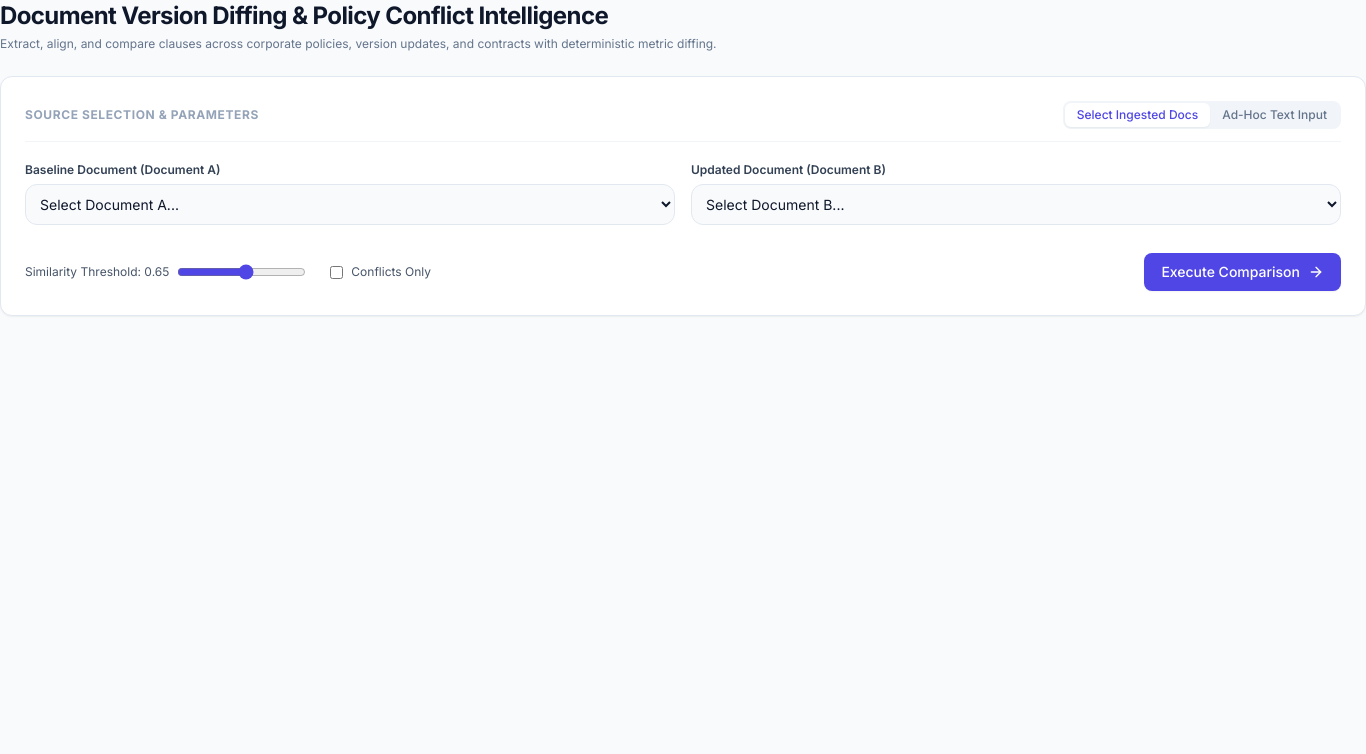
Test case: ComparisonPage component › executes document comparison and displays executive summary, diff statistics, and aligned clauses
Note: Switch to ad-hoc text mode for quick testing
Click the button "Ad-Hoc Text Input" at (1275, 115), box [1210,103,1339,127]
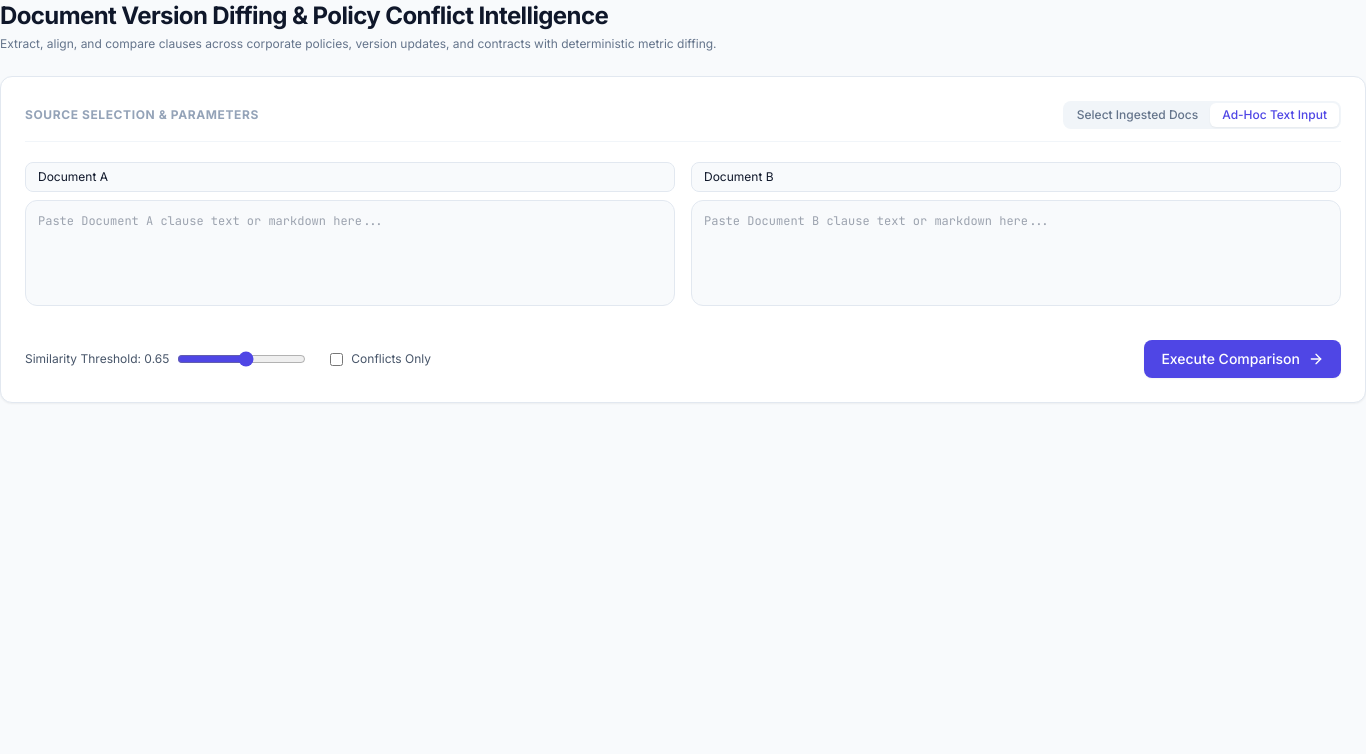
Type "Confidentiality obligations survive for 2 years." into the text box with placeholder "Paste Document A clause text or markdown here..." at (350, 253), box [25,200,675,306]
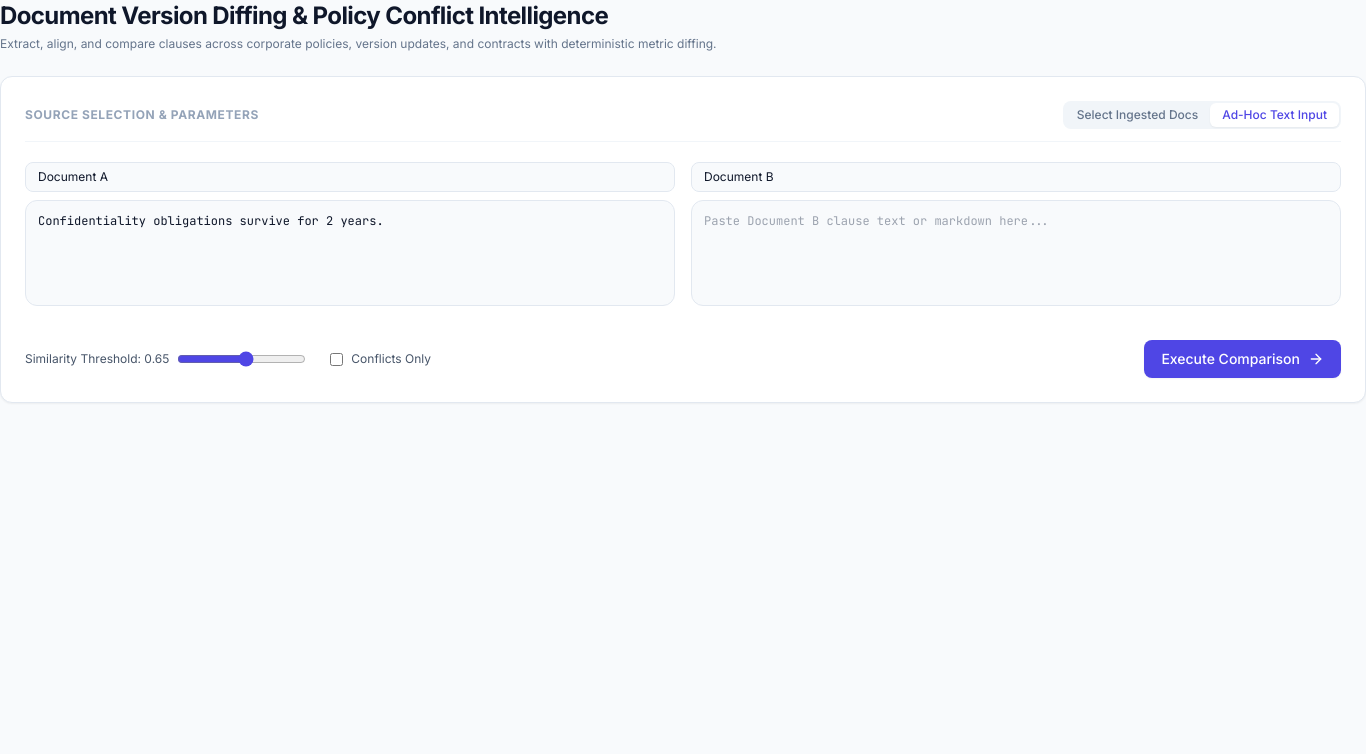
Type "Confidentiality obligations survive for 5 years." into the text box with placeholder "Paste Document B clause text or markdown here..." at (1016, 253), box [691,200,1341,306]
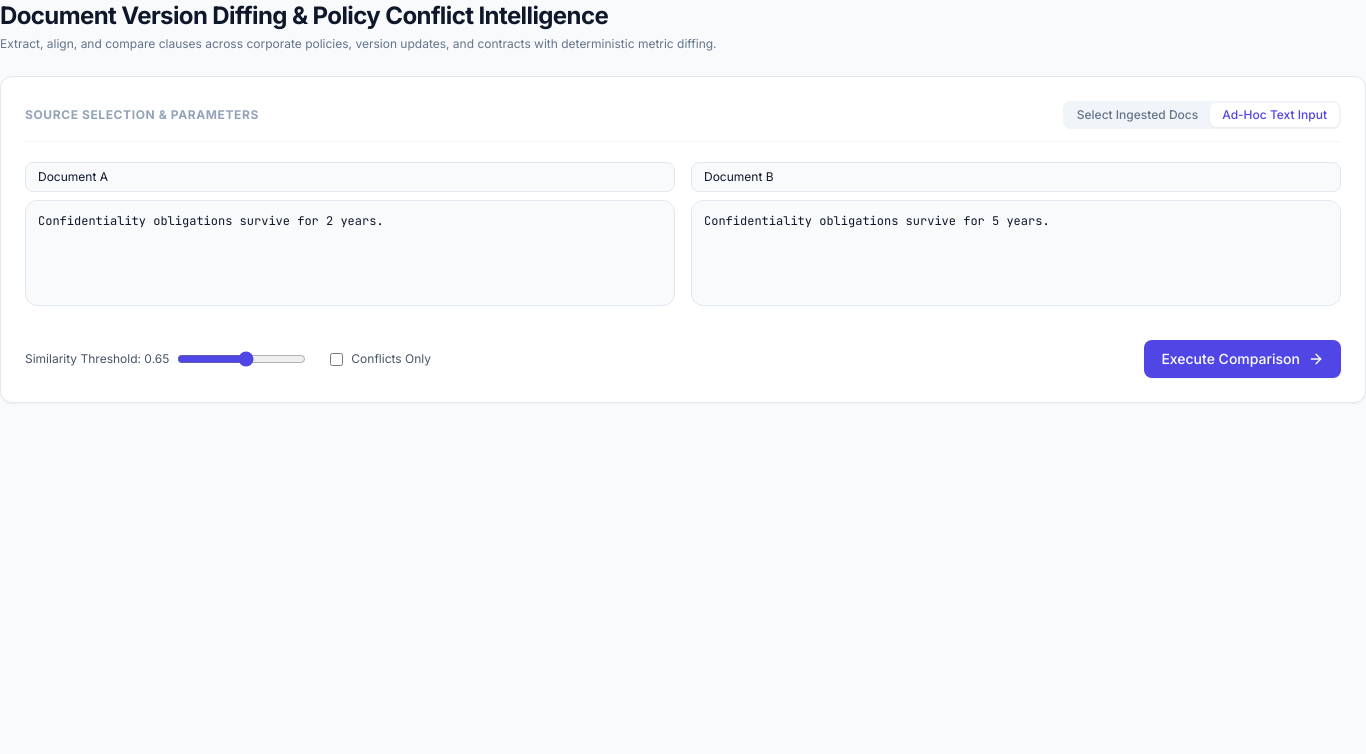
Click the button "Execute Comparison" at (1243, 359), box [1144,340,1341,378]
(page scrolled)
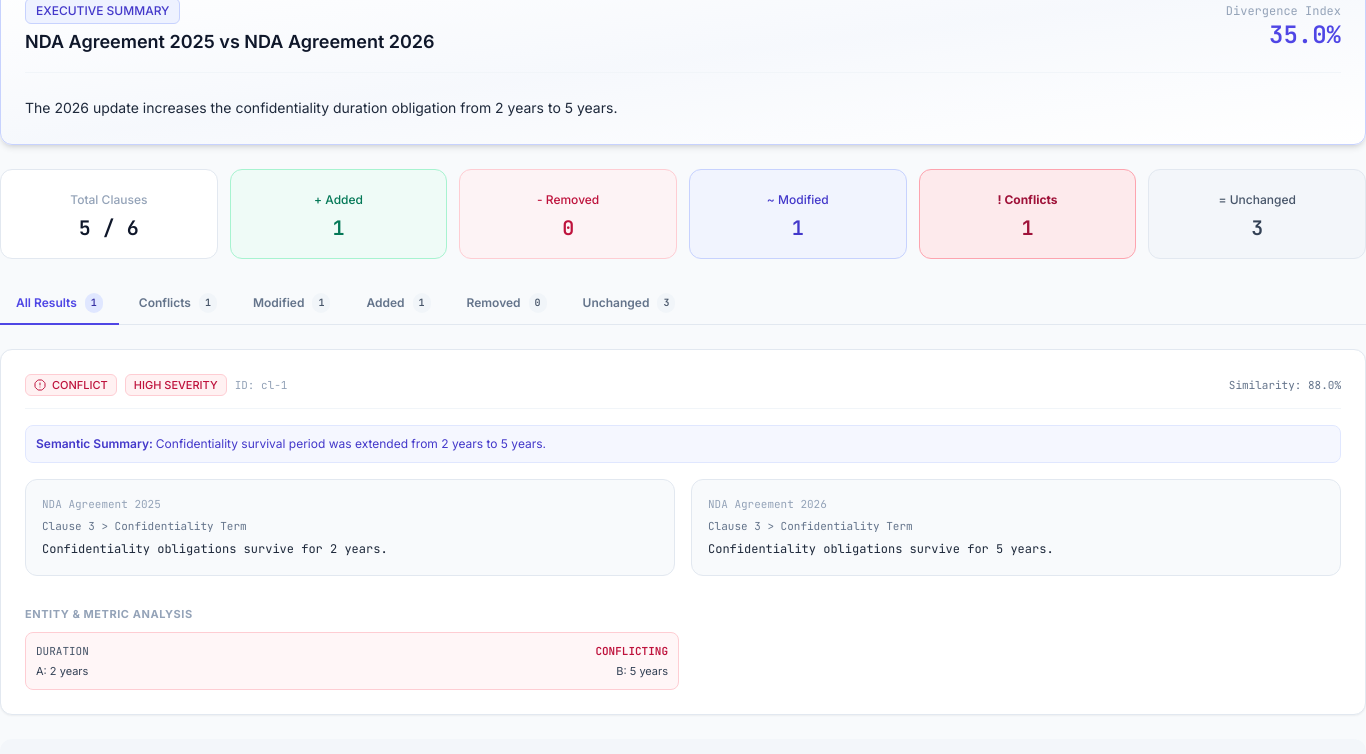
expect the text "increases the confidentiality duration" is shown: met, box [25,99,617,116]
expect the text "35.0%" is shown: met, box [1269,18,1341,50]
expect the text "CONFLICT" is shown: met, box [52,377,108,393]
